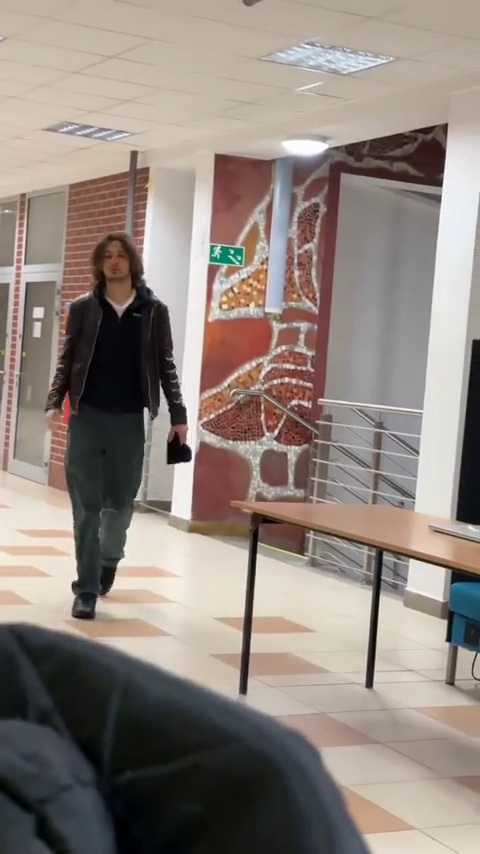no vest: (54, 229, 195, 621)
